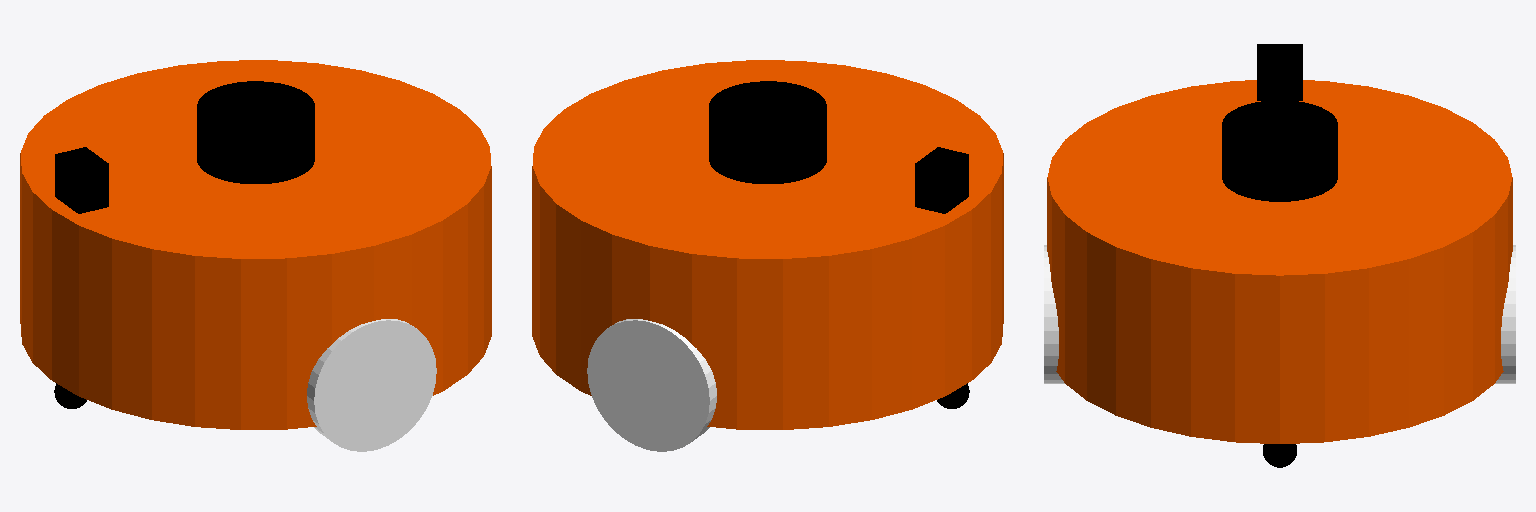
URDF robot description (mbot):
<?xml version="1.0" ?>
   <robot name="mbot">
   
       <link name="base_link">
           <visual>
             <origin xyz=" 0 0 0" rpy="0 0 0" /> <!-- xyz:机器人模型在xyz轴上偏移的长度(单位m)  rpy:绕xyz三轴旋转的角度(弧度);  -->
               <geometry>
                   <cylinder length="0.16" radius="0.20"/>
               </geometry>
              <material name="yellow">
                  <color rgba="1 0.4 0 1"/>   <!-- rgb a:0-1颜色透明度  -->
              </material>
          </visual>
      </link>
  
      <joint name="left_wheel_joint" type="continuous">  <!-- joint的origin用来描述joint连接的子link与母link之间的坐标关系  -->
          <origin xyz="0 0.19 -0.05" rpy="0 0 0"/><!-- xyz:机器人模型在xyz轴上偏移的长度(单位m)(相对于praent_link)  rpy:绕xyz三轴旋转的角度(弧度);  -->
          <parent link="base_link"/>
          <child link="left_wheel_link"/>
          <axis xyz="0 1 0"/>  <!-- 关节可以绕着y轴旋转  -->
      </joint>
  
      <link name="left_wheel_link">
          <visual>
              <origin xyz="0 0 0" rpy="1.5707 0 0" />
              <geometry>
                  <cylinder radius="0.06" length = "0.025"/>
              </geometry>
              <material name="white">
                  <color rgba="1 1 1 0.9"/>
              </material>
          </visual>
      </link>
  
      <joint name="right_wheel_joint" type="continuous">
          <origin xyz="0 -0.19 -0.05" rpy="0 0 0"/>
          <parent link="base_link"/>
          <child link="right_wheel_link"/>
          <axis xyz="0 1 0"/>
      </joint>
  
      <link name="right_wheel_link">
          <visual>
              <origin xyz="0 0 0" rpy="1.5707 0 0" />
              <geometry>
                  <cylinder radius="0.06" length = "0.025"/>
              </geometry>
              <material name="white">
                  <color rgba="1 1 1 0.9"/>
              </material>
          </visual>
      </link>
  
      <joint name="front_caster_joint" type="continuous">
          <origin xyz="0.18 0 -0.095" rpy="0 0 0"/>
          <parent link="base_link"/>
          <child link="front_caster_link"/>
          <axis xyz="0 1 0"/>
      </joint>
  
      <link name="front_caster_link">
          <visual>
              <origin xyz="0 0 0" rpy="0 0 0"/>
              <geometry>
                  <sphere radius="0.015" />
              </geometry>
              <material name="black">
                  <color rgba="0 0 0 0.95"/>
              </material>
          </visual>
      </link>
  
      <joint name="back_caster_joint" type="continuous">
          <origin xyz="-0.18 0 -0.095" rpy="0 0 0"/>
          <parent link="base_link"/>
          <child link="back_caster_link"/>
          <axis xyz="0 1 0"/>
      </joint>
  
      <link name="back_caster_link">
          <visual>
              <origin xyz="0 0 0" rpy="0 0 0"/>
              <geometry>
                  <sphere radius="0.015" />
              </geometry>
              <material name="black">
                  <color rgba="0 0 0 0.95"/>
              </material>
          </visual>
      </link>
  
      <link name="kinect_link">
          <visual>
              <origin xyz="0 0 0" rpy="0 0 1.5708"/>
              <geometry>
                  <mesh filename="package://mbot_description/meshes/kinect.dae" />
              </geometry>
          </visual>
      </link>
 
     <joint name="kinect_joint" type="fixed">
         <origin xyz="0.15 0 0.11" rpy="0 0 0"/>
         <parent link="base_link"/>
         <child link="kinect_link"/>
     </joint>

     <link name="camera_link">
        <visual>
            <origin xyz=" 0 0 0 " rpy="0 0 0" />
            <geometry>
                <box size="0.03 0.04 0.04" />
            </geometry>
            <material name="black">
                <color rgba="0 0 0 0.95"/>
            </material>
        </visual>
    </link>

    <joint name="camera_joint" type="fixed">
        <origin xyz="-0.17 0 0.10" rpy="0 0 0"/>
        <parent link="base_link"/>
        <child link="camera_link"/>
    </joint>

    <link name="laser_link">
		<visual>
			<origin xyz=" 0 0 0 " rpy="0 0 0" />
			<geometry>
				<cylinder length="0.05" radius="0.05"/>
			</geometry>
			<material name="black"/>
		</visual>
    </link>

    <joint name="laser_joint" type="fixed">
        <origin xyz="0 0 0.105" rpy="0 0 0"/>
        <parent link="base_link"/>
        <child link="laser_link"/>
    </joint>
   
 
 </robot>

--- Render facts (derived) ---
The picture shows the robot from 3 angles, left to right: view 1: azimuth 30°, elevation 25°; view 2: azimuth 150°, elevation 25°; view 3: azimuth 270°, elevation 25°; orthographic projection.
Model mbot with 8 links and 7 joints (4 continuous, 3 fixed), rooted at base_link, posed every joint at zero.
Visible links, largest first — view 1: base_link, right_wheel_link, laser_link, camera_link; view 2: base_link, left_wheel_link, laser_link, camera_link; view 3: base_link, laser_link, camera_link, left_wheel_link, right_wheel_link, front_caster_link.
Link boxes in pixels (<box>): base_link: <box>20,60,491,429</box>; right_wheel_link: <box>307,319,436,451</box>; laser_link: <box>197,81,314,183</box>; camera_link: <box>55,147,108,213</box>; base_link: <box>532,60,1003,429</box>; left_wheel_link: <box>587,319,716,451</box>; laser_link: <box>709,81,826,183</box>; camera_link: <box>915,147,968,213</box>; base_link: <box>1047,80,1512,443</box>; laser_link: <box>1222,100,1337,201</box>; camera_link: <box>1257,44,1302,100</box>; left_wheel_link: <box>1495,245,1515,383</box>; right_wheel_link: <box>1044,245,1064,383</box>; front_caster_link: <box>1263,444,1296,467</box>.
Size in the robot's own frame: 0.4 by 0.405 by 0.24 metres.
0 mesh visuals loaded from 1 distinct referenced files (none loaded); not drawn: 1 (reference not matched to a file when rendering).
